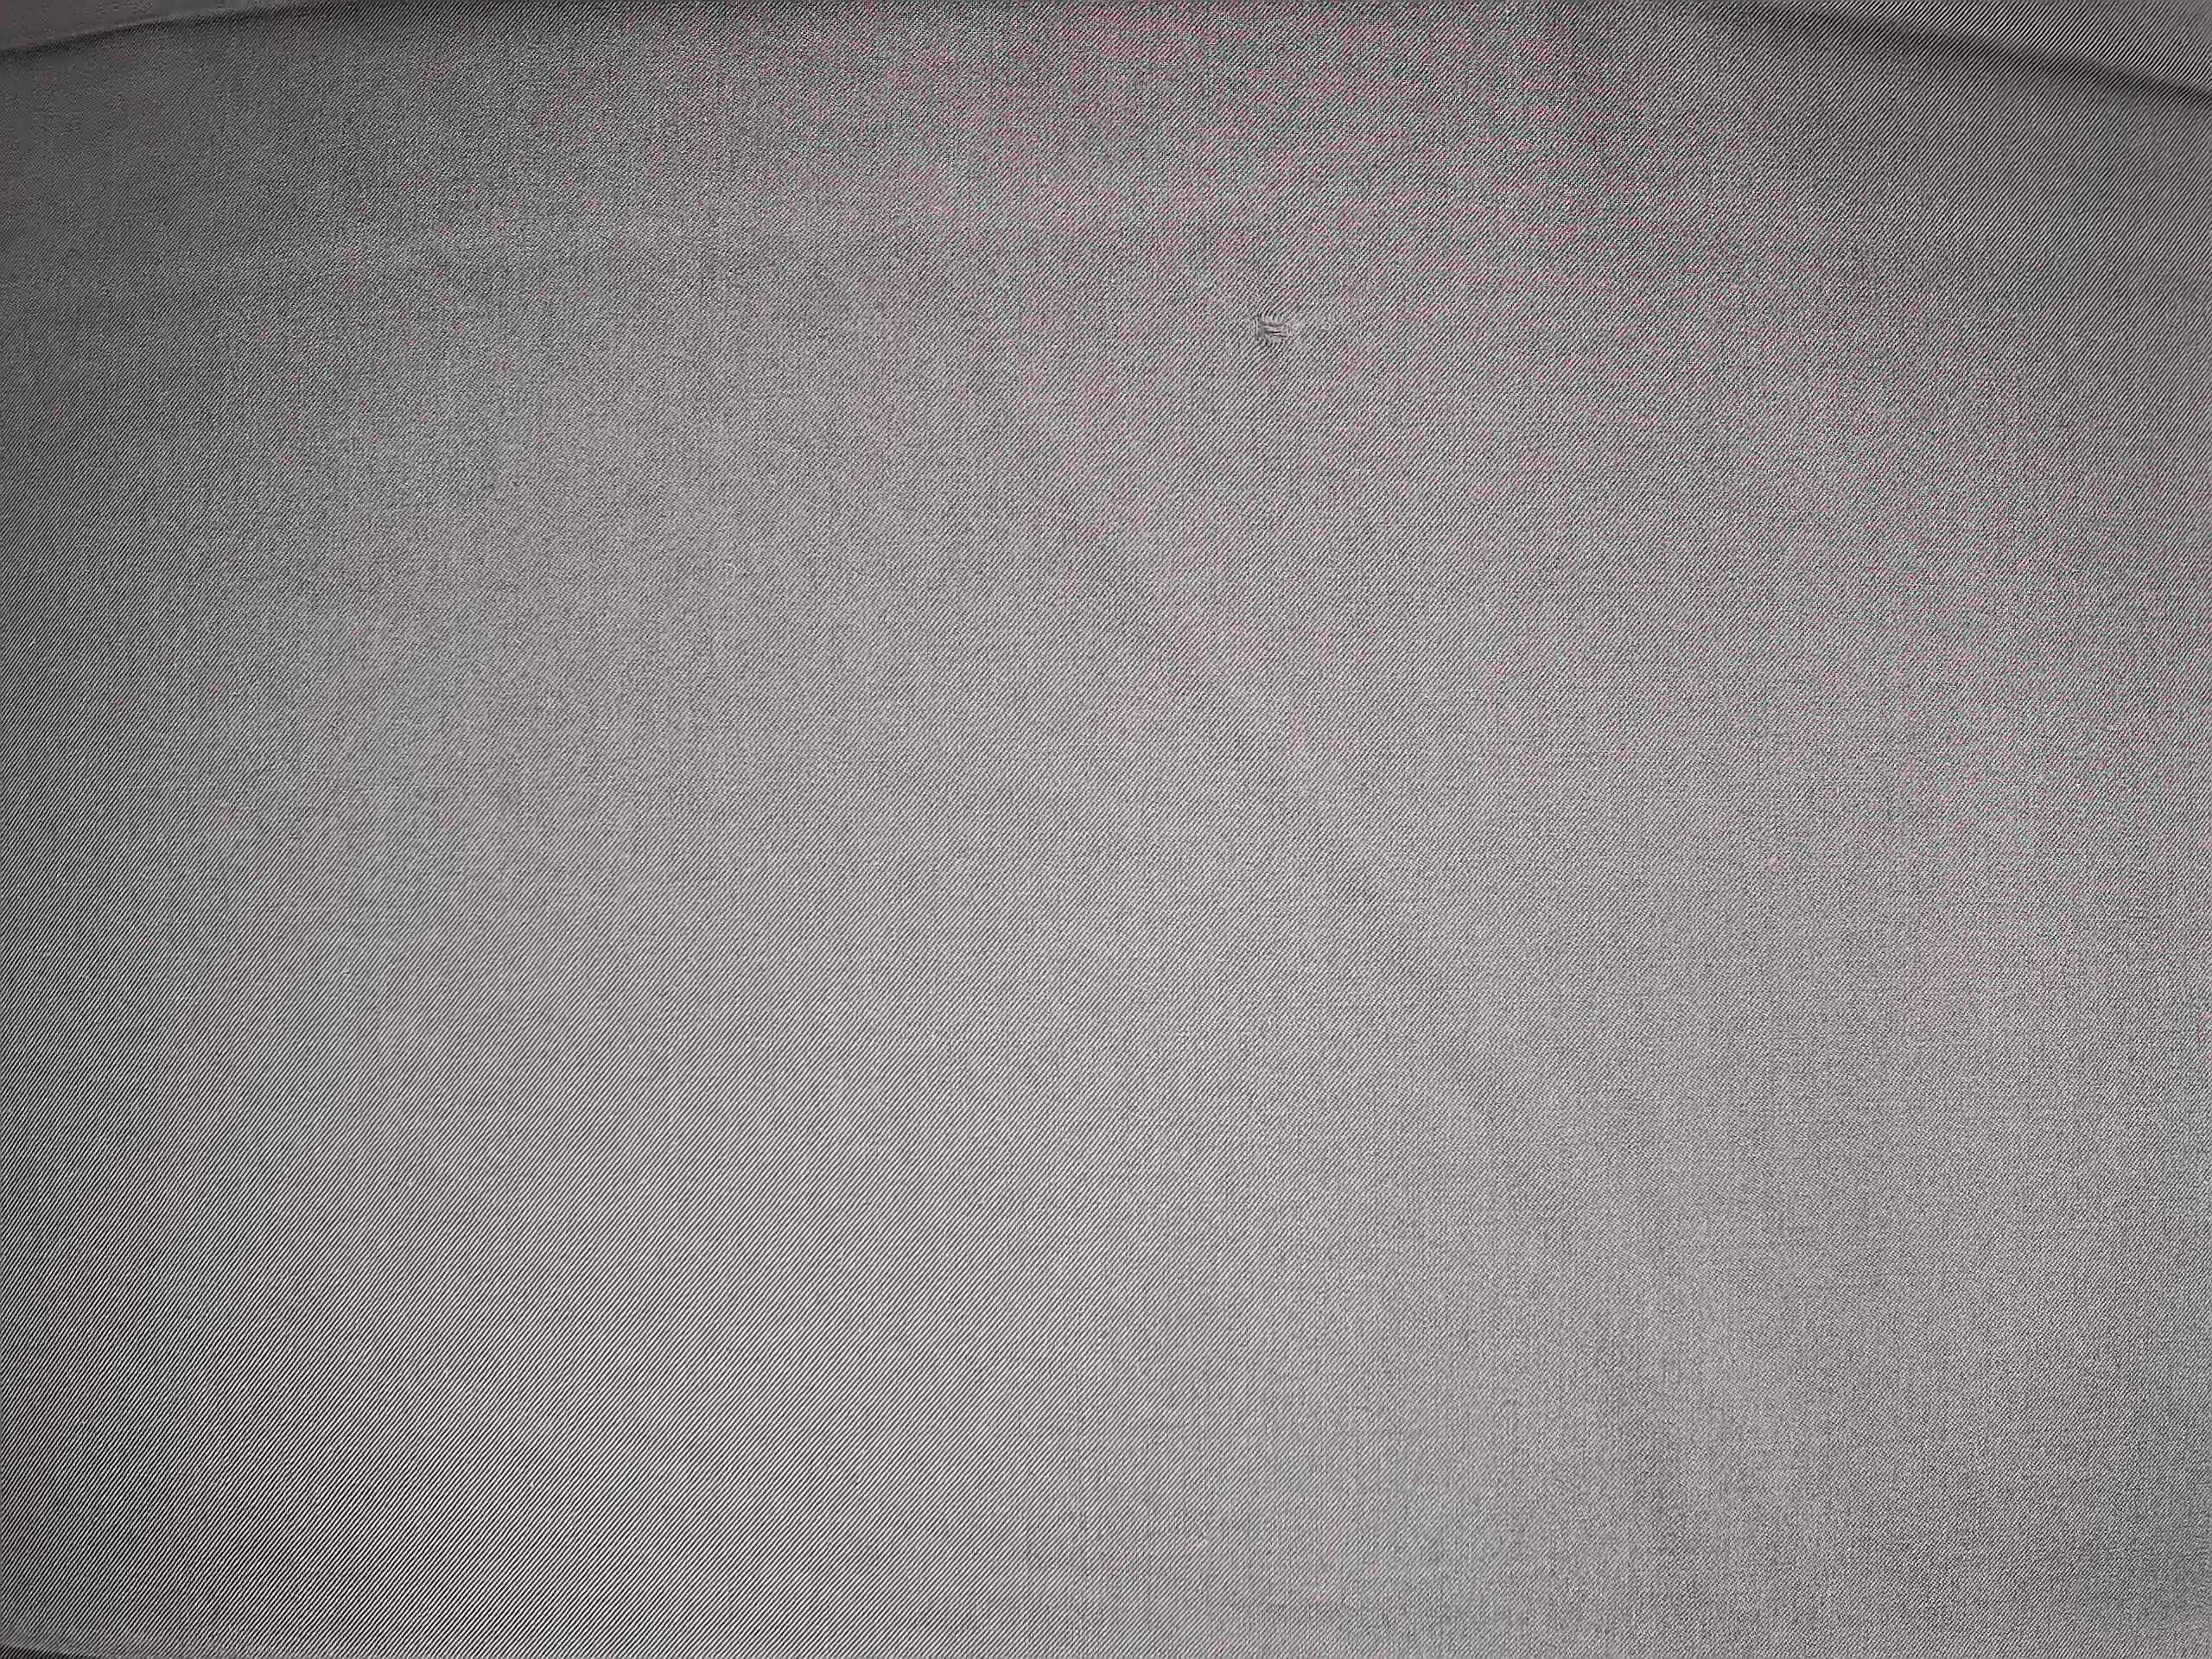rubbing-hole: (1242, 298, 1303, 361)
